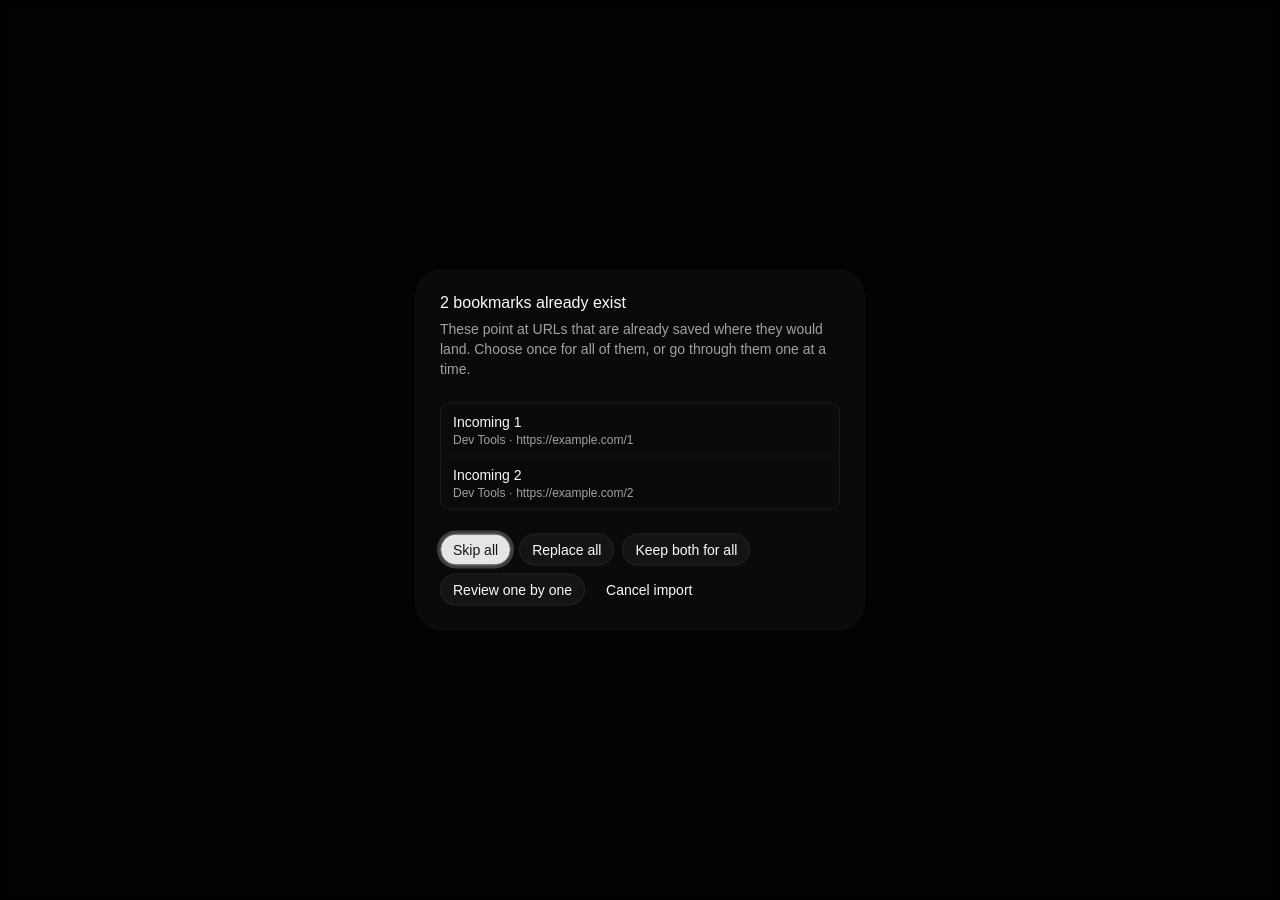
Scenario: ImportConflictDialog review › goes back to the summary from the first conflict
The width and height of the screenshot is (1280, 900).
Click the button "Review one by one" at (513, 590), box [440, 574, 585, 606]
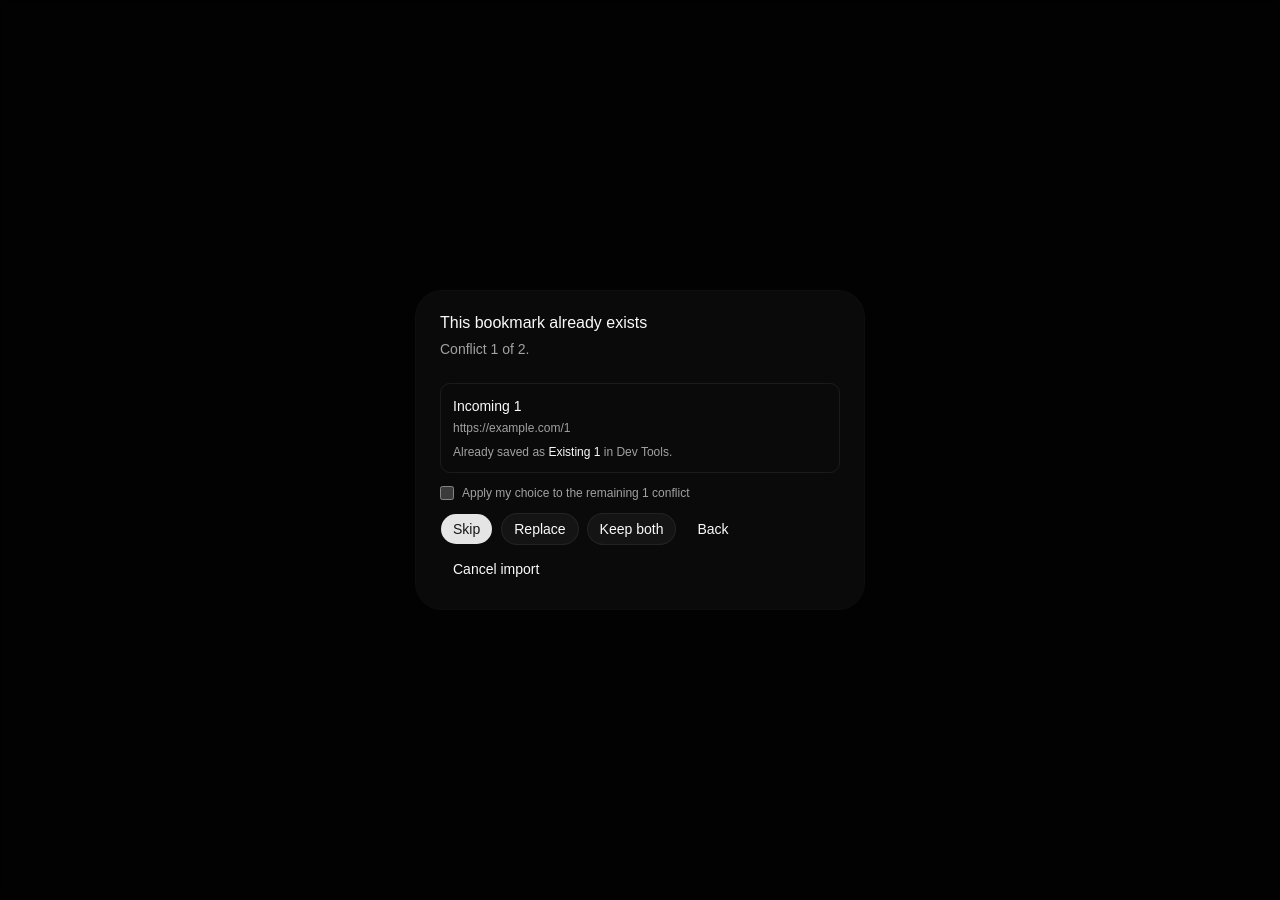
Click the button "Back" at (713, 529), box [684, 513, 742, 545]
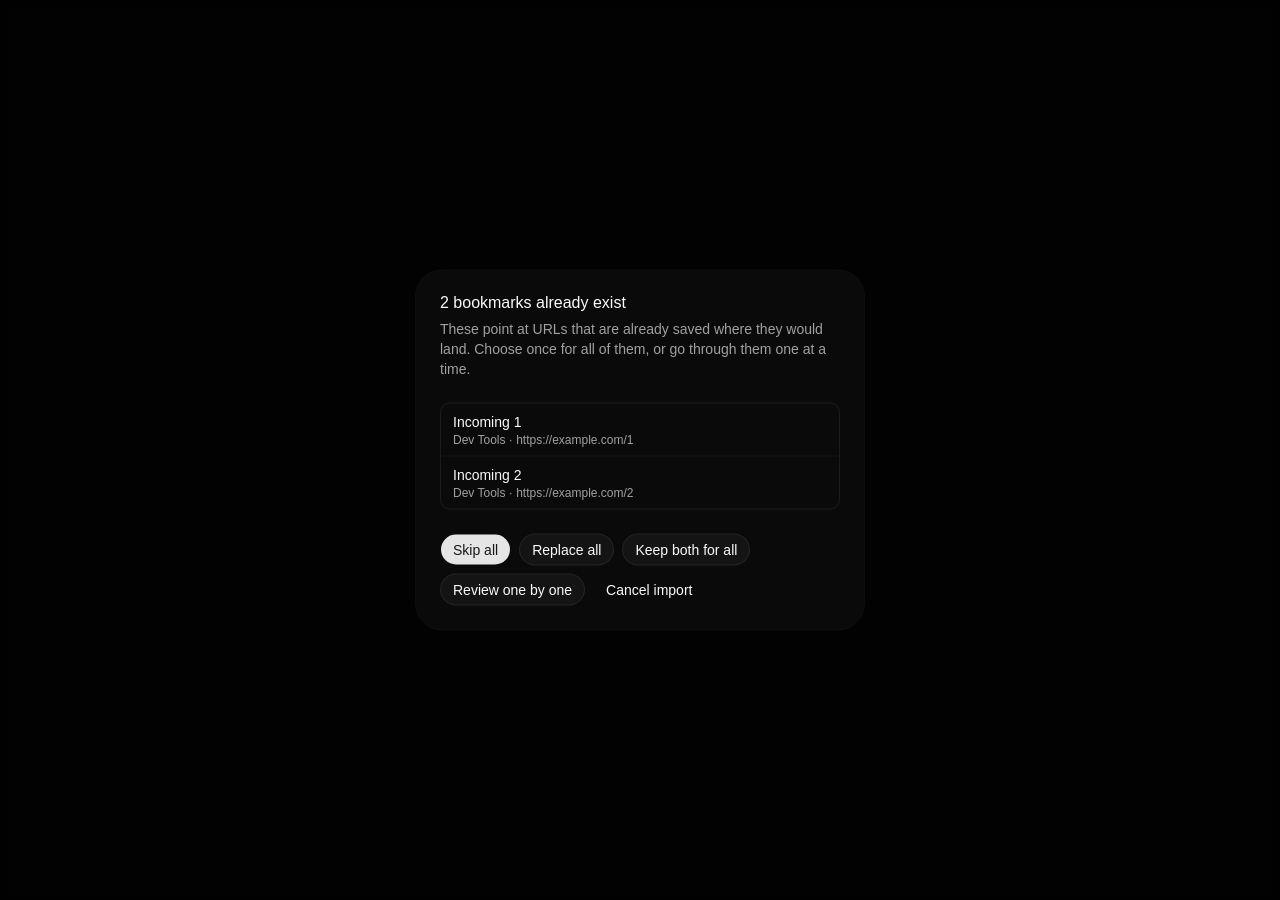
Check: the heading "2 bookmarks already exist" is shown, box [440, 294, 626, 310]
